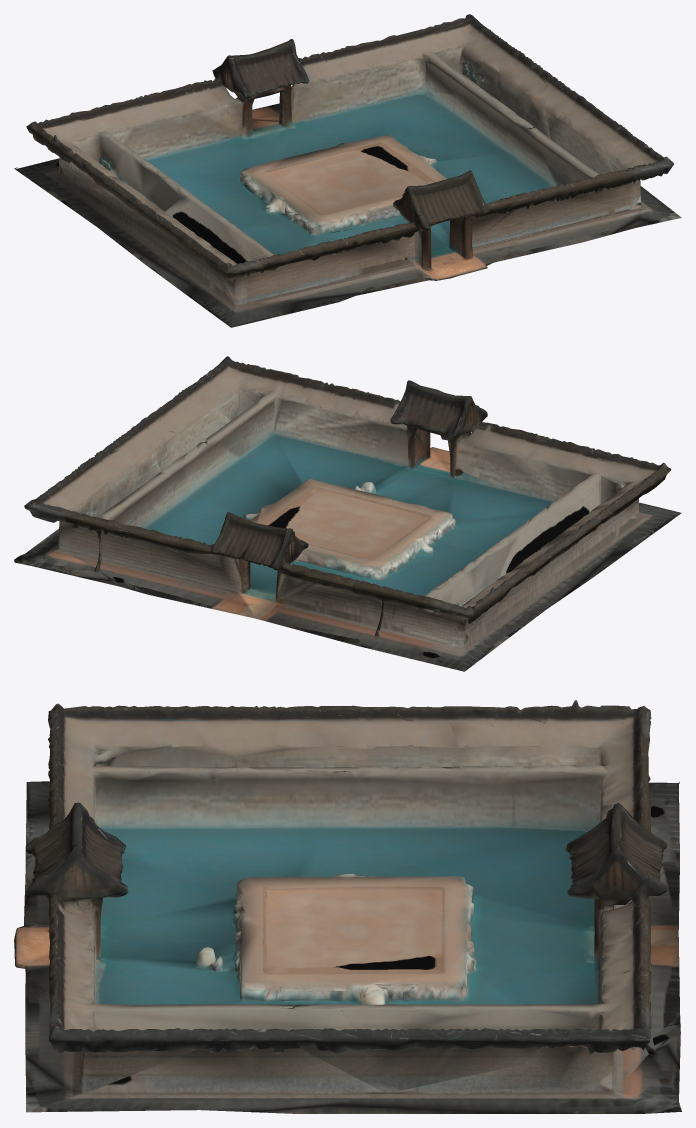
Rendered from hanok.glb.
3 renders of one model, top to bottom at view 1: azimuth 30°, elevation 25°; view 2: azimuth 150°, elevation 25°; view 3: azimuth 270°, elevation 25°, orthographic. The views are drawn at different scales.
Parts seen in each view (by area): view 1: Mesh1.0; view 2: Mesh1.0; view 3: Mesh1.0.
Part boxes in pixels (x1=…): Mesh1.0: x1=14, y1=14, x2=681, y2=327; Mesh1.0: x1=14, y1=356, x2=681, y2=671; Mesh1.0: x1=14, y1=700, x2=681, y2=1113.
Size of the model in its own units: 2.01 by 0.3633 by 1.7.
Materials: 1 (1 with a texture image).
